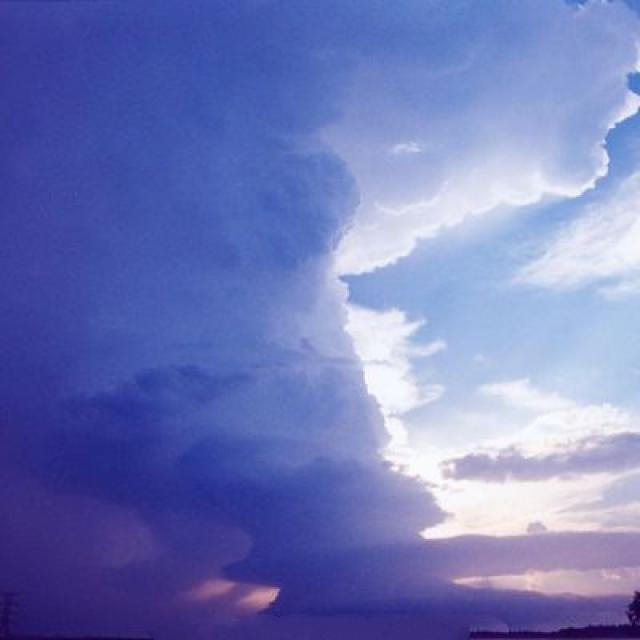Cb: (1, 1, 631, 572)
